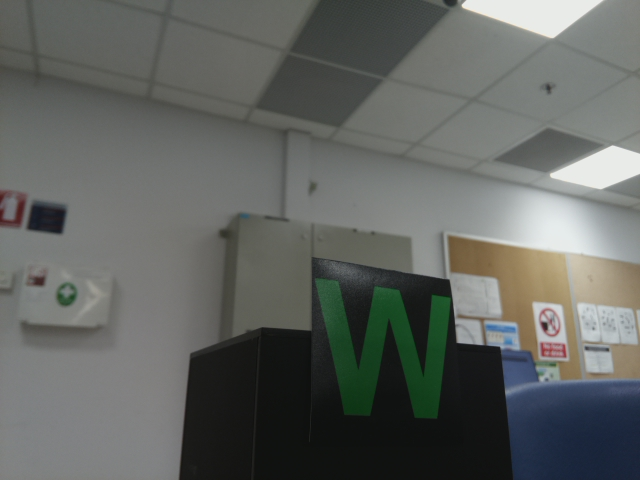w: (308, 268, 459, 421)
